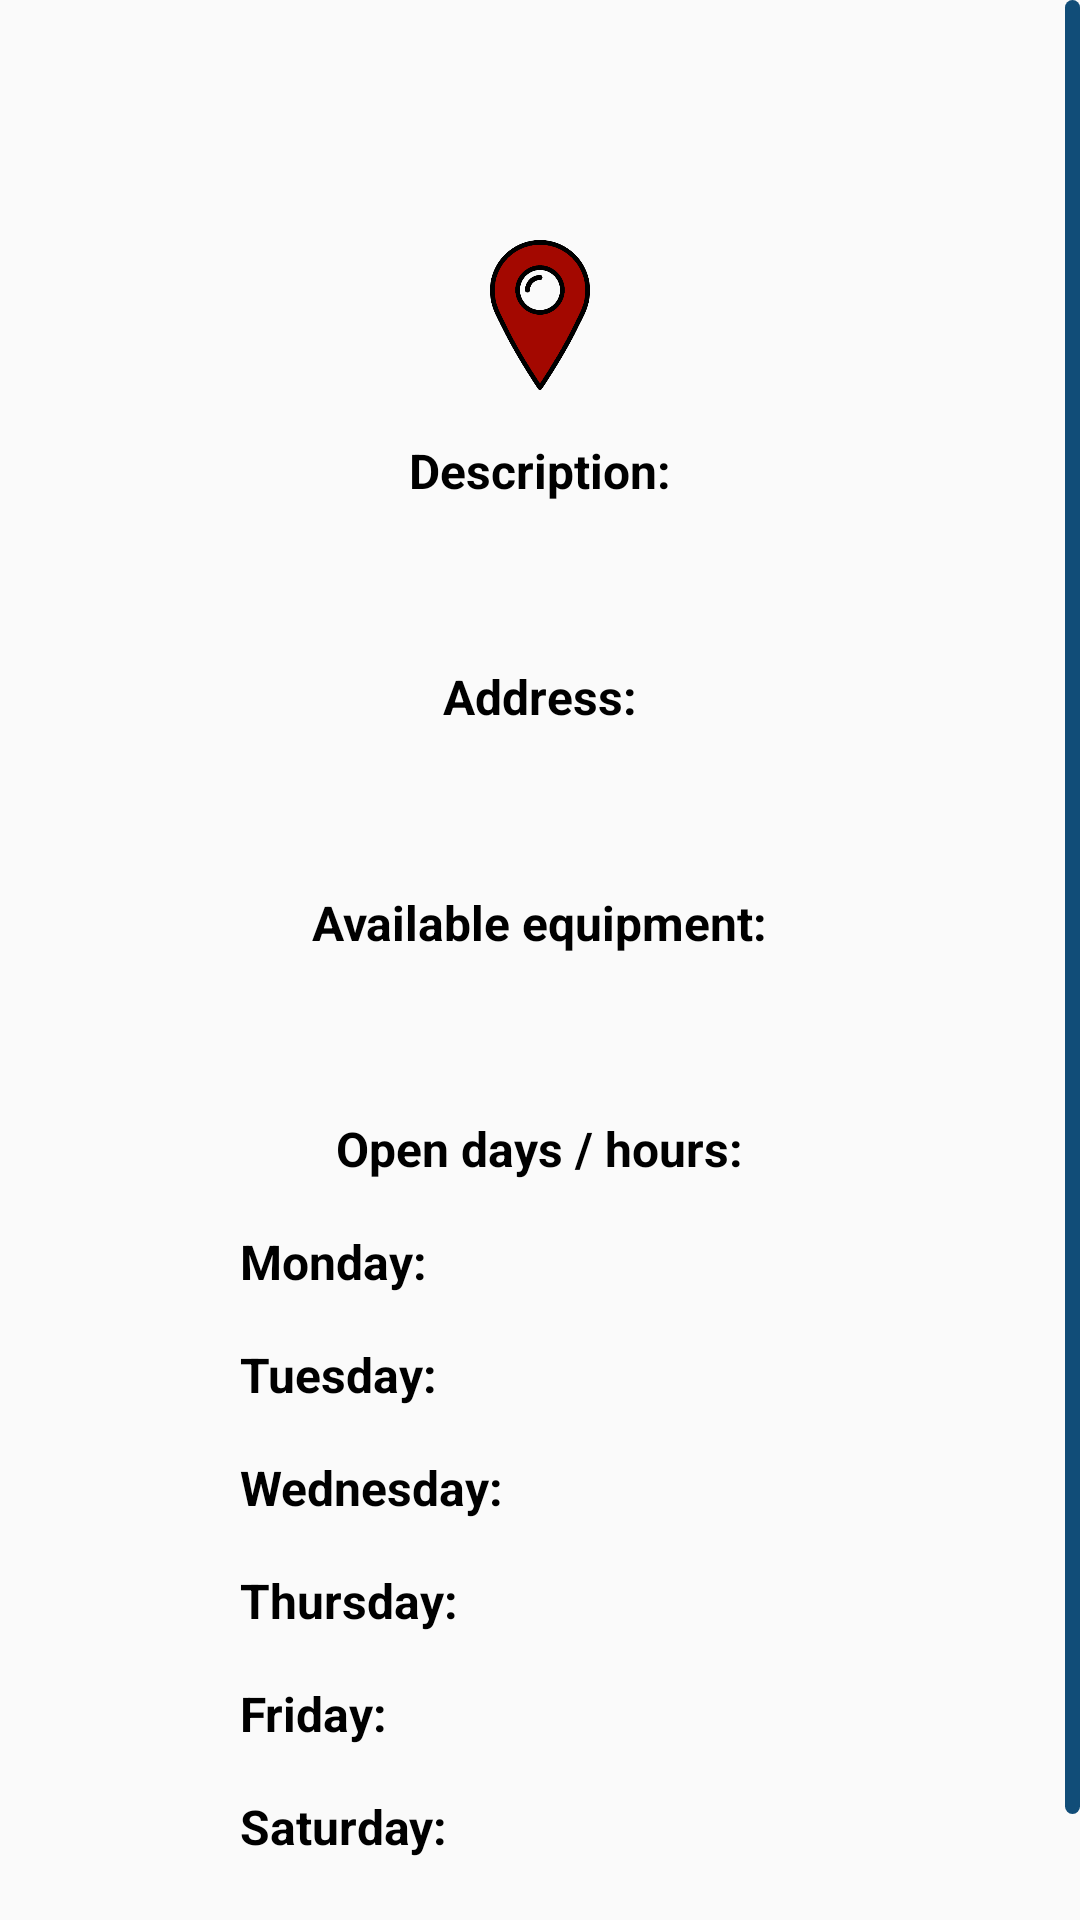

Point at icon controls on the screen. Image size 1080 × 1920, points as (x,y).
location: (540,315)
